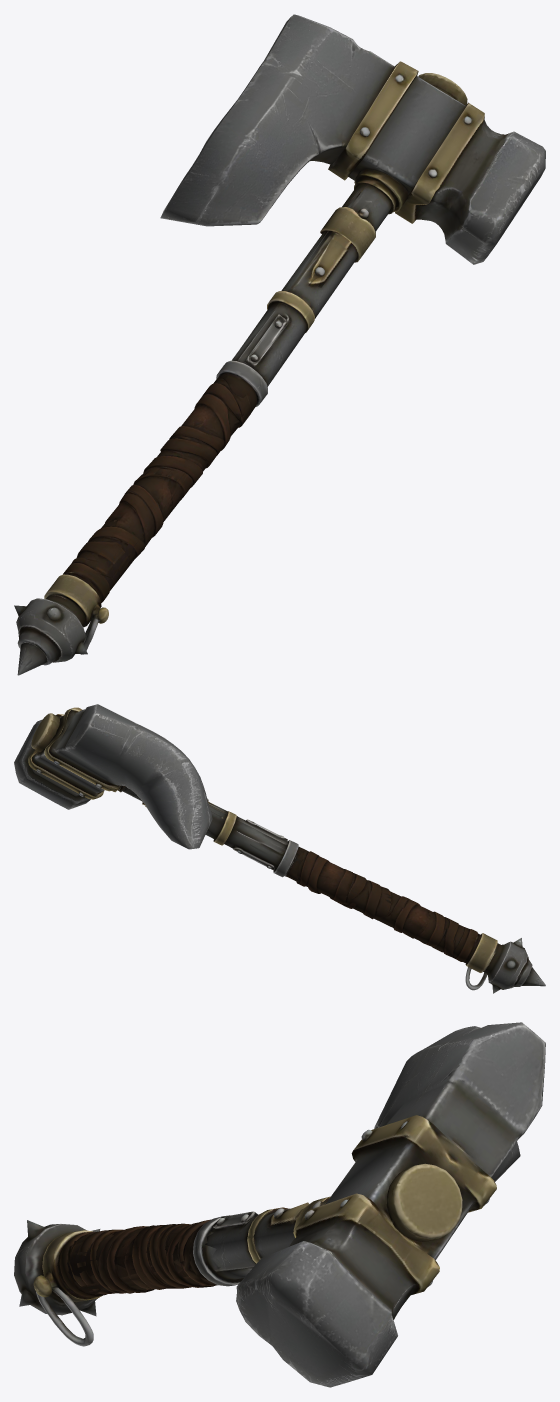
File: selected.fbx
The picture shows the model from 3 angles, top to bottom: view 1: azimuth 30°, elevation 25°; view 2: azimuth 150°, elevation 25°; view 3: azimuth 270°, elevation 25°; orthographic projection. The views are drawn at different scales.
Parts seen in each view (by area): view 1: tripo_node_9755fa26-4c66-4e82-969c-1c550bdf45b0; view 2: tripo_node_9755fa26-4c66-4e82-969c-1c550bdf45b0; view 3: tripo_node_9755fa26-4c66-4e82-969c-1c550bdf45b0.
Part boxes in pixels (left/top/right/bottom): tripo_node_9755fa26-4c66-4e82-969c-1c550bdf45b0: left=14, top=14, right=545, bottom=675; tripo_node_9755fa26-4c66-4e82-969c-1c550bdf45b0: left=14, top=704, right=545, bottom=993; tripo_node_9755fa26-4c66-4e82-969c-1c550bdf45b0: left=14, top=1022, right=545, bottom=1387.
Size of the model in its own units: 0.9995 by 0.6382 by 0.5415.
Materials: 1 (1 with a texture image).
